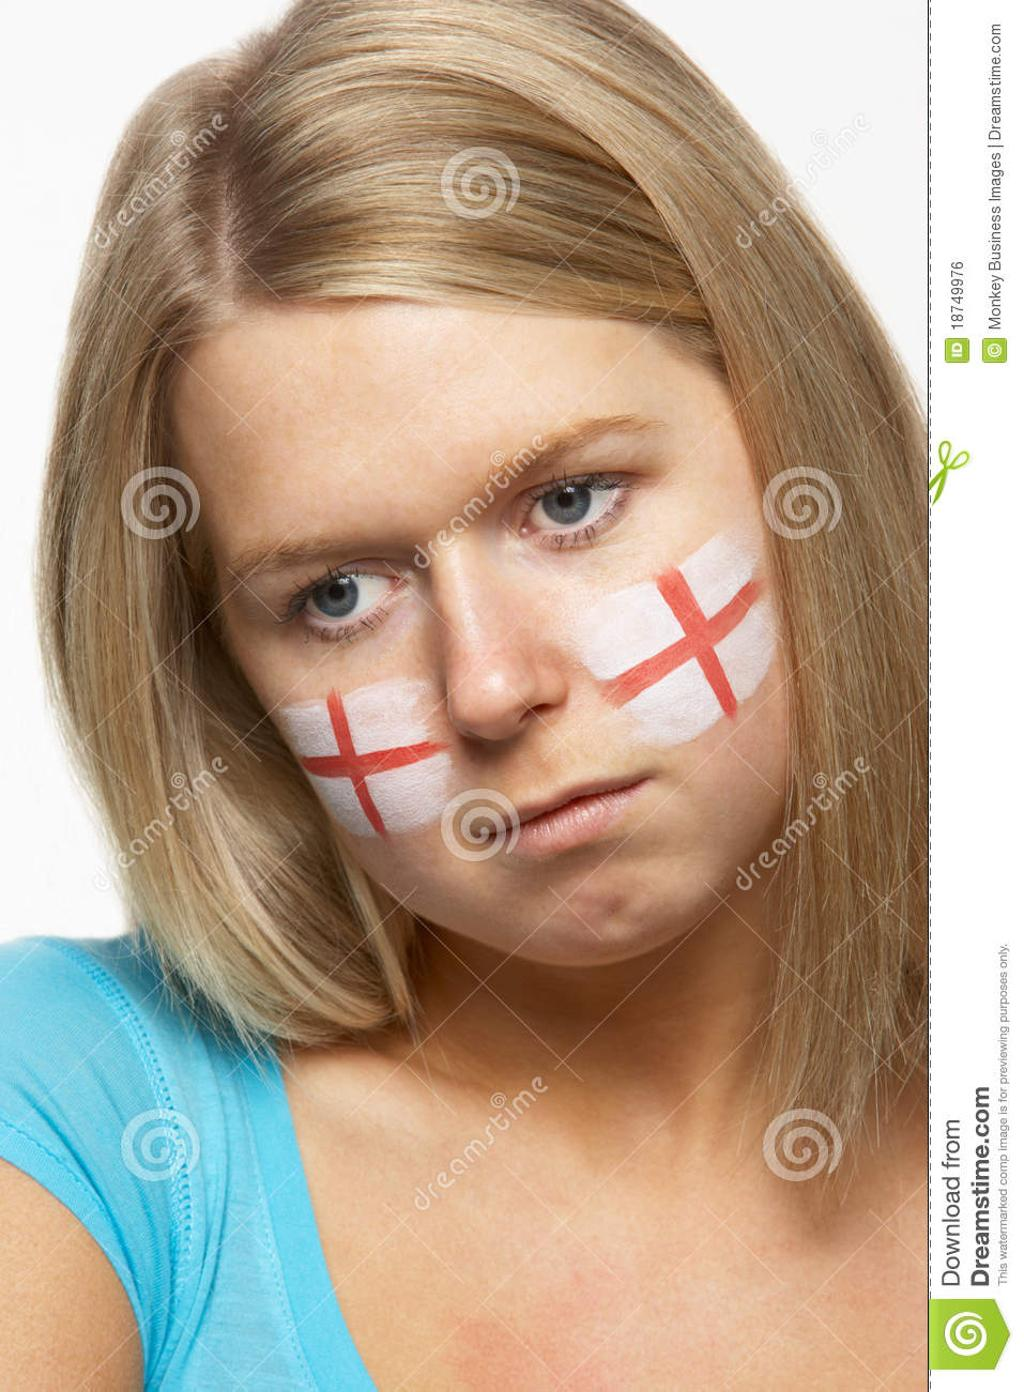face: (174, 321, 796, 965)
